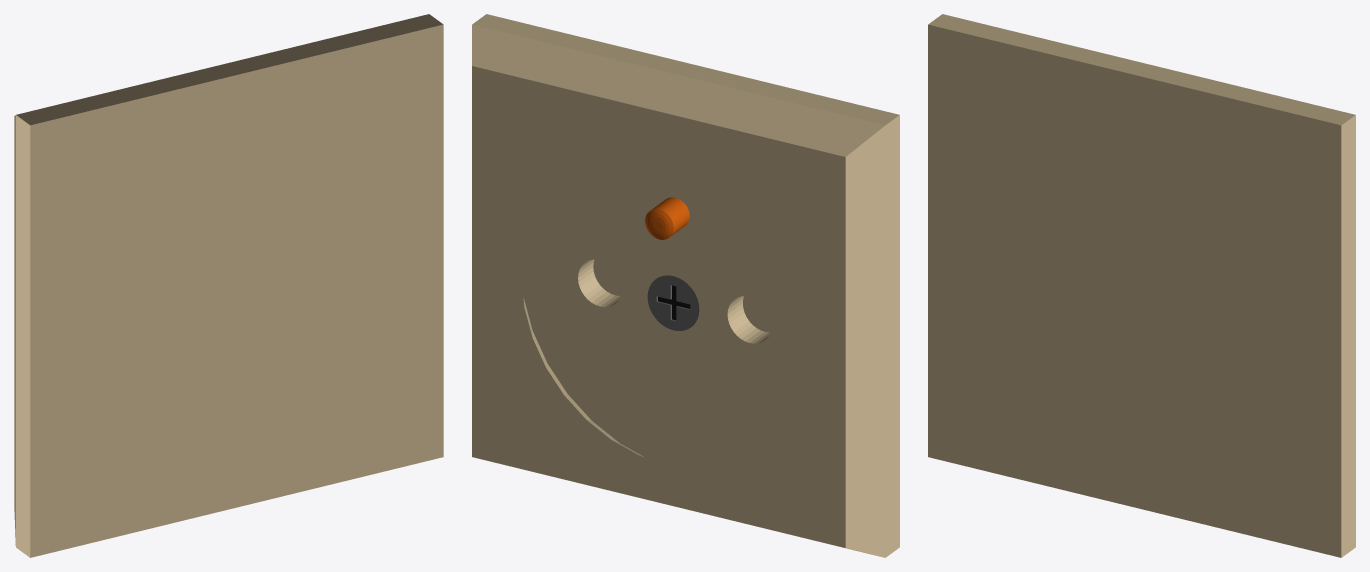
File: Electric Socket 2.fbx
3 renders of one model, left to right at view 1: azimuth 30°, elevation 25°; view 2: azimuth 150°, elevation 25°; view 3: azimuth 330°, elevation 25°, orthographic.
Parts seen in each view (by area): view 1: Node 0; view 2: Node 0; view 3: Node 0.
Part boxes in pixels (left/top/right/bottom): Node 0: left=14, top=14, right=443, bottom=557; Node 0: left=472, top=14, right=899, bottom=557; Node 0: left=928, top=14, right=1355, bottom=557.
Bounding box in the file's own units: 0.0147 × 0.0905 × 0.0905.
